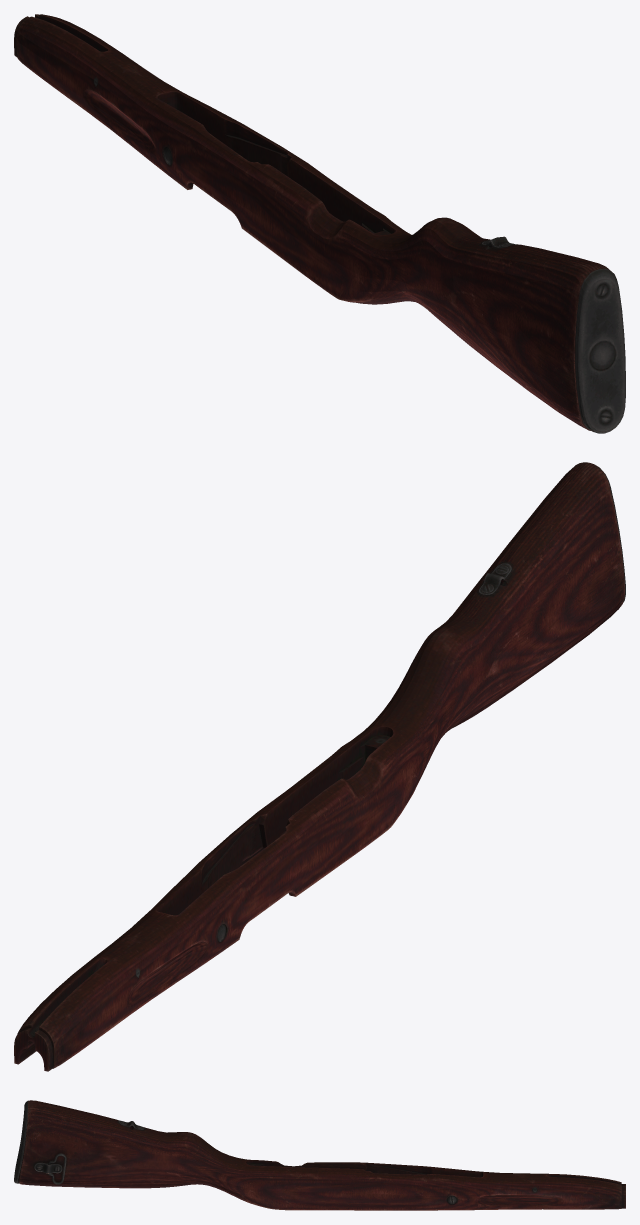
3 renders of one model, top to bottom at view 1: azimuth 30°, elevation 25°; view 2: azimuth 150°, elevation 25°; view 3: azimuth 270°, elevation 25°, orthographic. The views are drawn at different scales.
Parts seen in each view (by area): view 1: TW_574dad8024597745964bf05c_PZ_Import; view 2: TW_574dad8024597745964bf05c_PZ_Import; view 3: TW_574dad8024597745964bf05c_PZ_Import.
Boxes of the visible parts, x1,y1,x2,y2 form: TW_574dad8024597745964bf05c_PZ_Import: [14, 14, 625, 433]; TW_574dad8024597745964bf05c_PZ_Import: [14, 462, 625, 1071]; TW_574dad8024597745964bf05c_PZ_Import: [14, 1100, 625, 1210].
Size of the model in its own units: 0.0265 by 0.4268 by 0.0797.
Materials: 1 (1 with a texture image).
